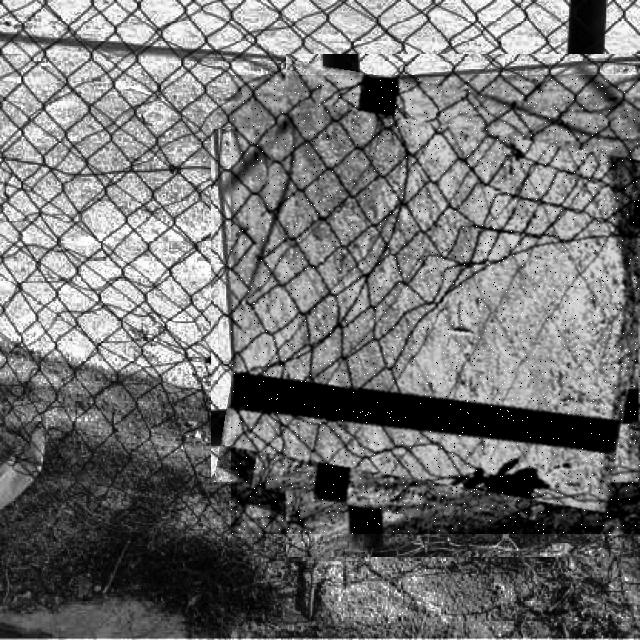anomaly-fence: (231, 75, 640, 534)
